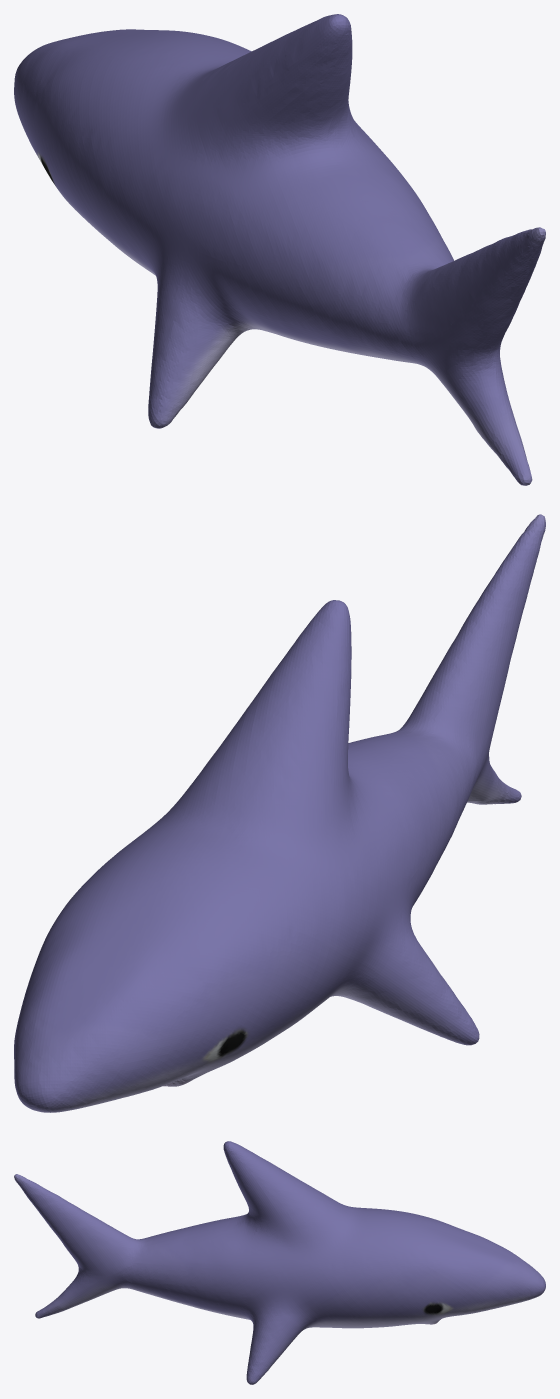
File: Shark.glb
3 renders of one model, top to bottom at view 1: azimuth 30°, elevation 25°; view 2: azimuth 150°, elevation 25°; view 3: azimuth 270°, elevation 25°, orthographic. The views are drawn at different scales.
Parts seen in each view (by area): view 1: Cone 1; view 2: Cone 1; view 3: Cone 1.
Boxes of the visible parts, <box> form: Cone 1: <box>14,14,545,485</box>; Cone 1: <box>14,514,545,1112</box>; Cone 1: <box>14,1141,545,1384</box>.
Size of the model in its own units: 1.29 by 1.46 by 3.47.
